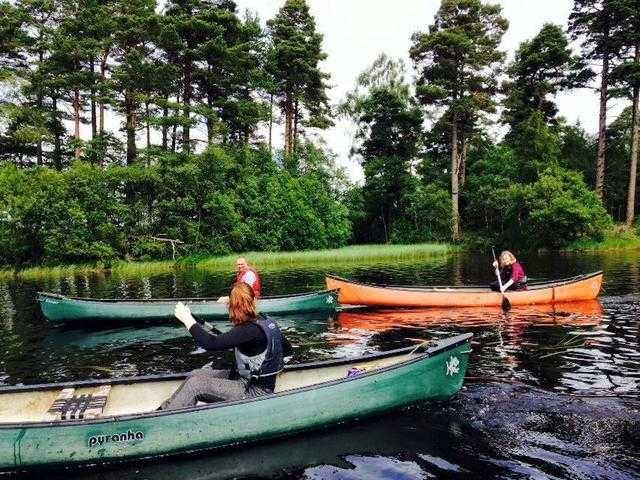kayak: (4, 329, 474, 474), (33, 286, 340, 330), (323, 268, 605, 311)
